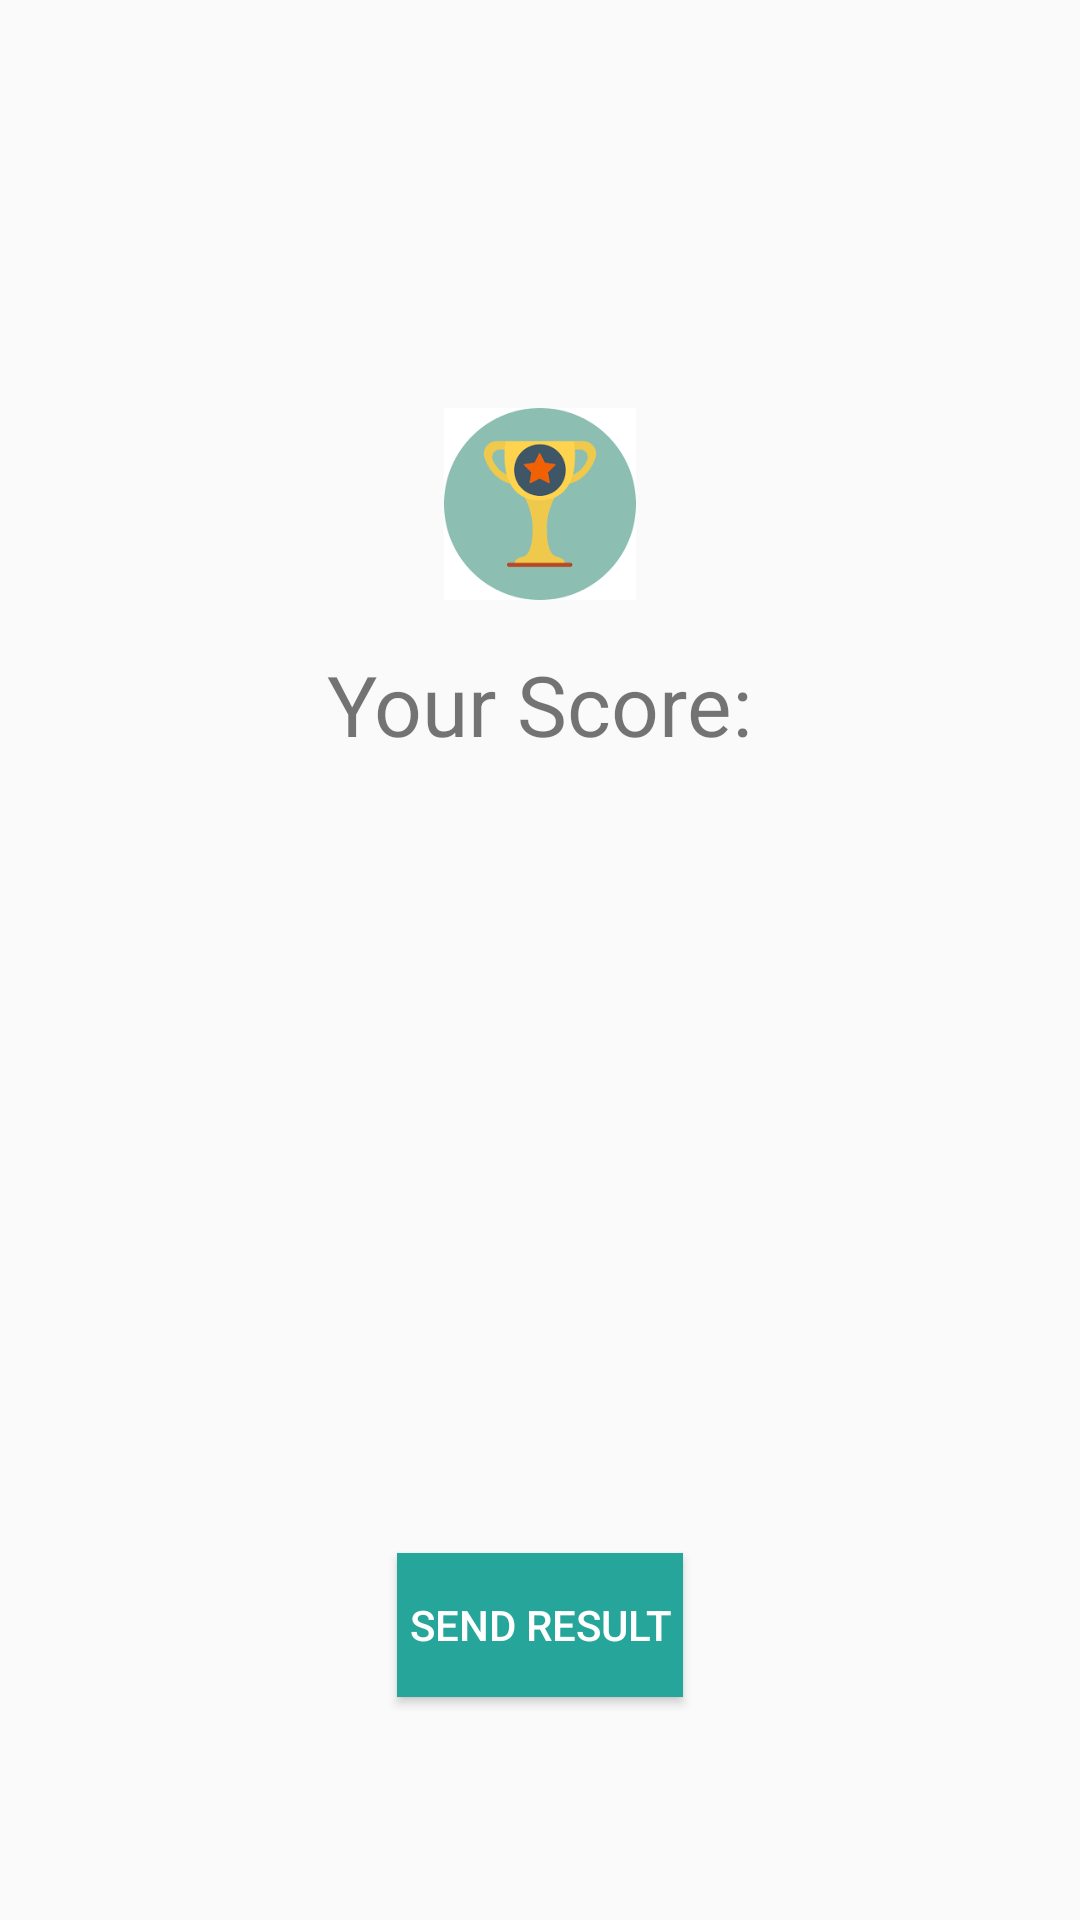

Icons on this 1080w x 1920h Android screen, each with its box as (x1, y1, x2, y2):
prize: (444, 408, 636, 600)
